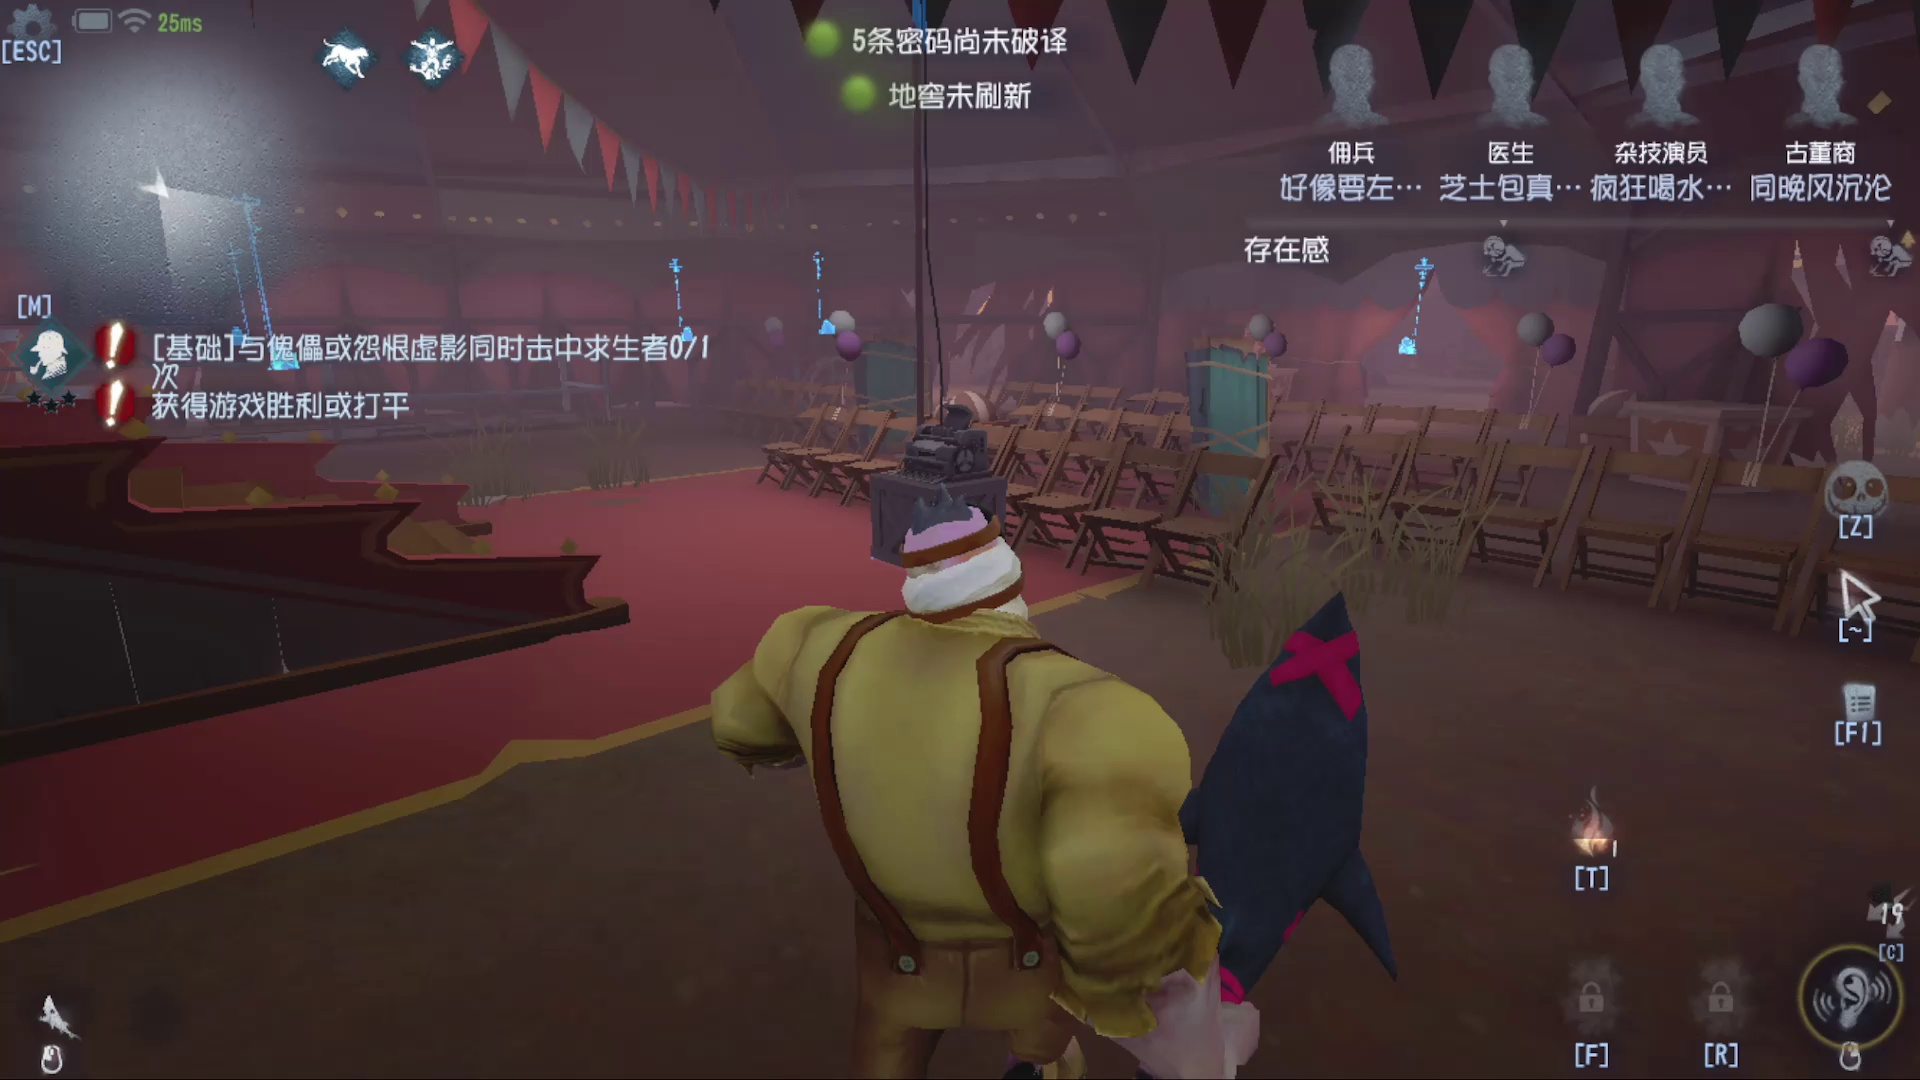密码机: (852, 3, 1018, 582), (237, 191, 332, 378), (650, 251, 717, 363), (1394, 251, 1451, 376), (810, 237, 852, 352)
木板: (1174, 327, 1292, 533), (837, 316, 924, 426)
